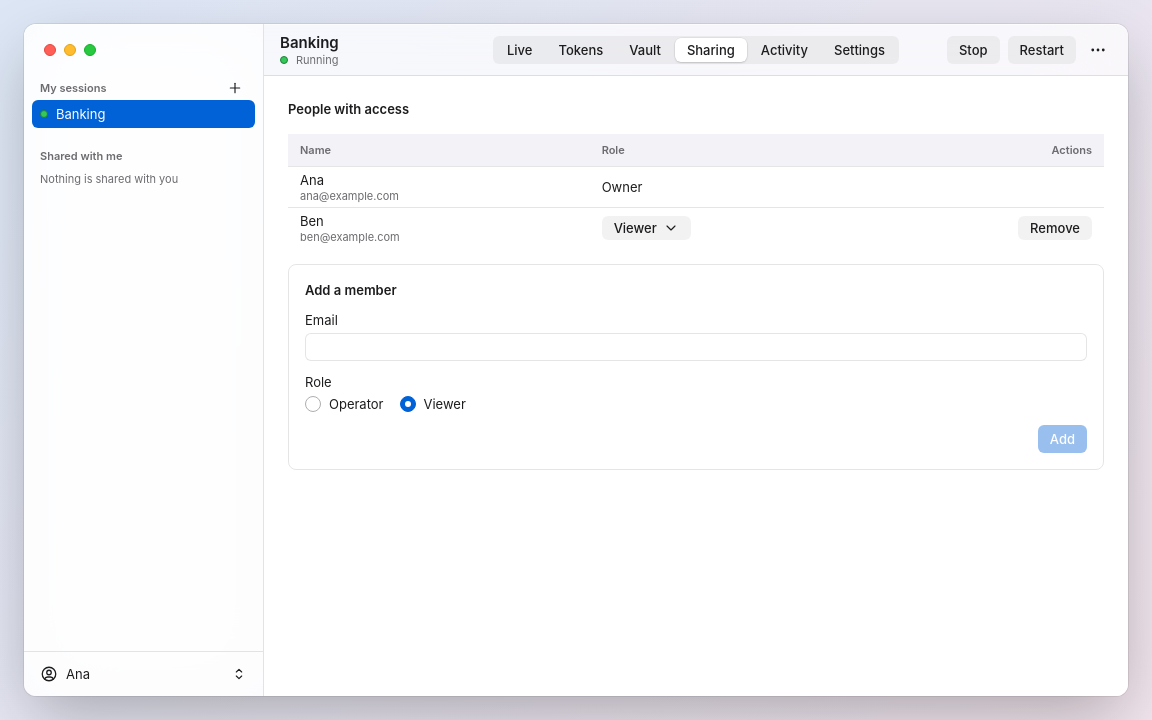
Scenario: Sharing view › shows the error of a failed add
This screenshot has width=1152, height=720.
Type "ben@example.com" into the field labelled "Email" at (696, 346), box left=305, top=332, right=1087, bottom=360
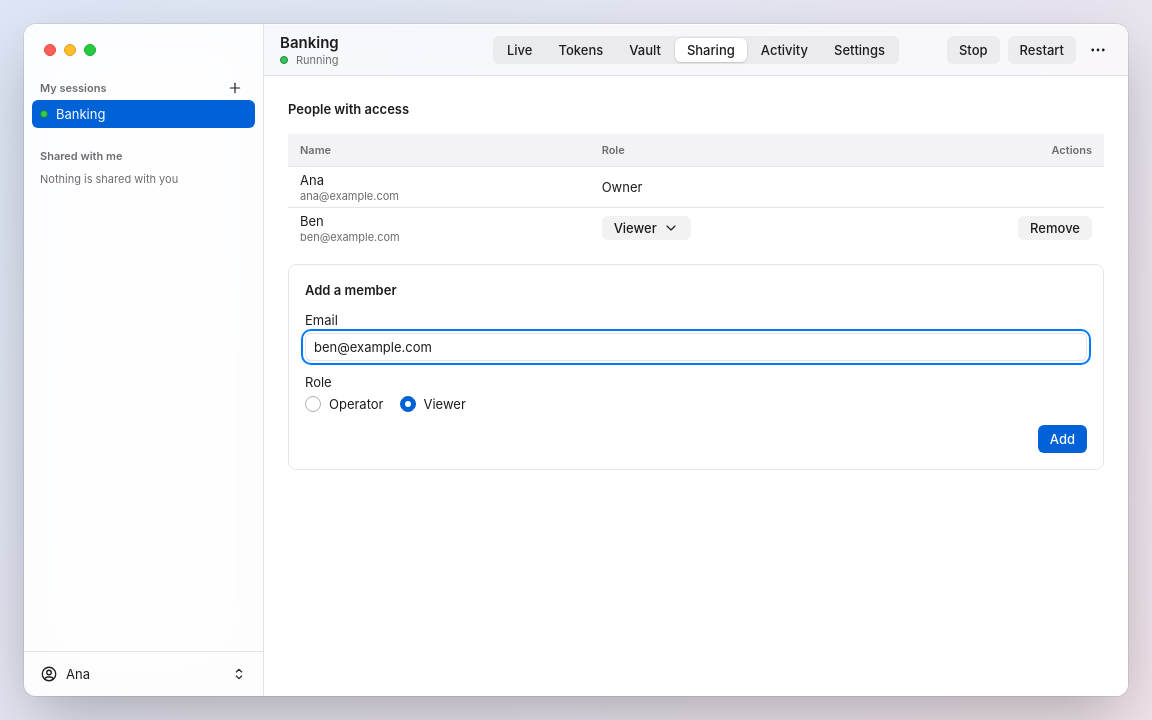
Click the button "Add" at (1062, 438), box left=1038, top=424, right=1087, bottom=452
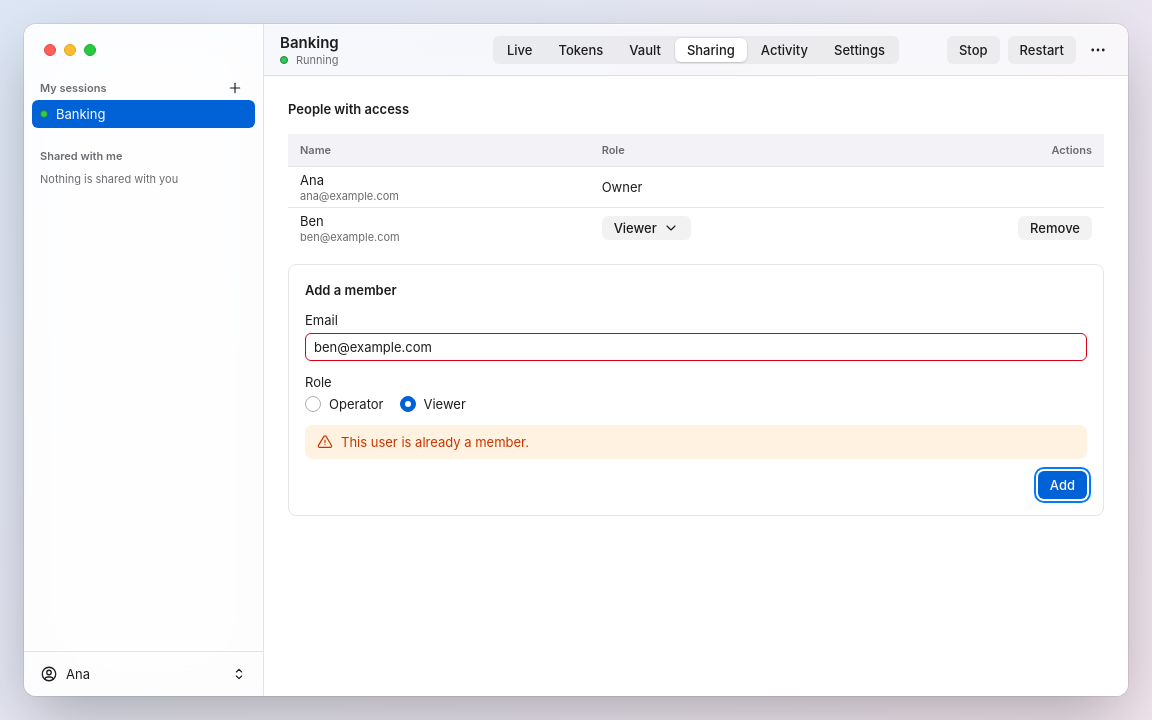
Expected: the text "This user is already a member." is shown, left=341, top=432, right=529, bottom=450
